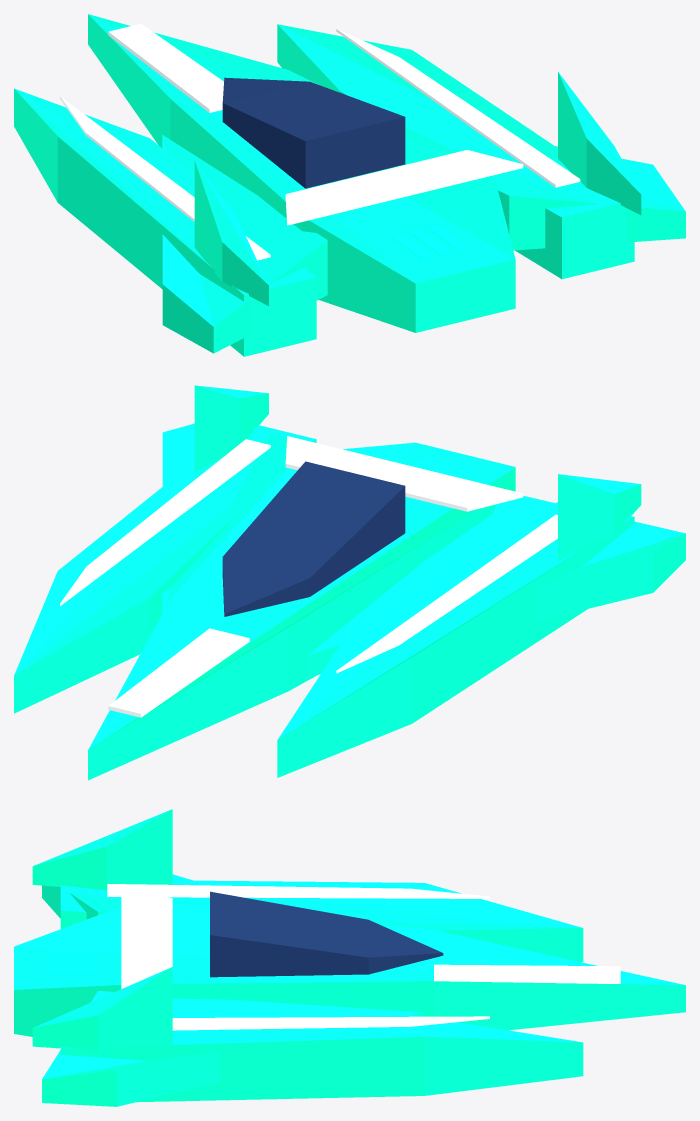
Rendered from hydrofoil-1.glb.
The picture shows the model from 3 angles, top to bottom: view 1: azimuth 30°, elevation 25°; view 2: azimuth 150°, elevation 25°; view 3: azimuth 270°, elevation 25°; orthographic projection. The views are drawn at different scales.
Visible parts, largest first — view 1: BW-01 Split Delta; view 2: BW-01 Split Delta; view 3: BW-01 Split Delta.
Boxes of the visible parts, bbox=[...] form: BW-01 Split Delta: bbox=[14, 14, 685, 356]; BW-01 Split Delta: bbox=[14, 385, 685, 780]; BW-01 Split Delta: bbox=[14, 809, 685, 1106].
Bounding box in the file's own units: 5.4 × 1.55 × 7.2.
